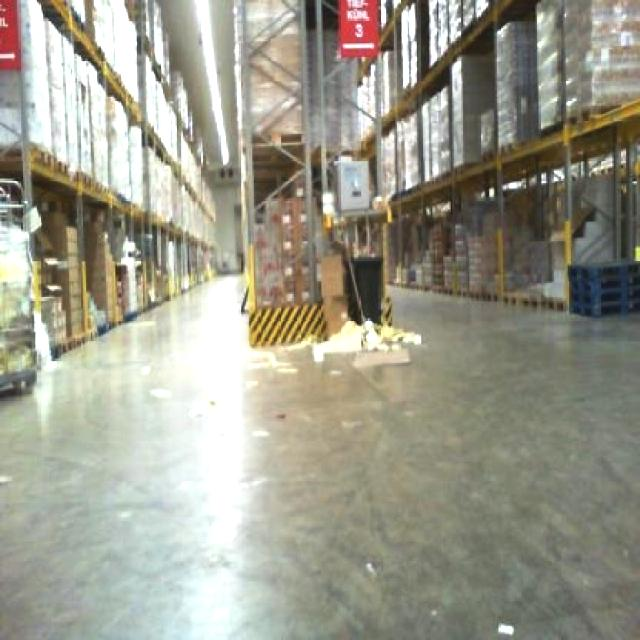floor: (0, 274, 637, 637)
